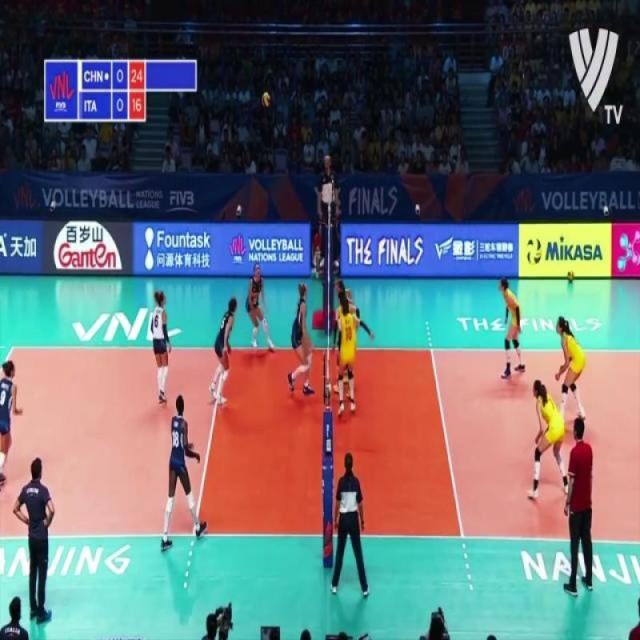volleyball: (526, 236, 542, 269), (261, 88, 272, 112)
